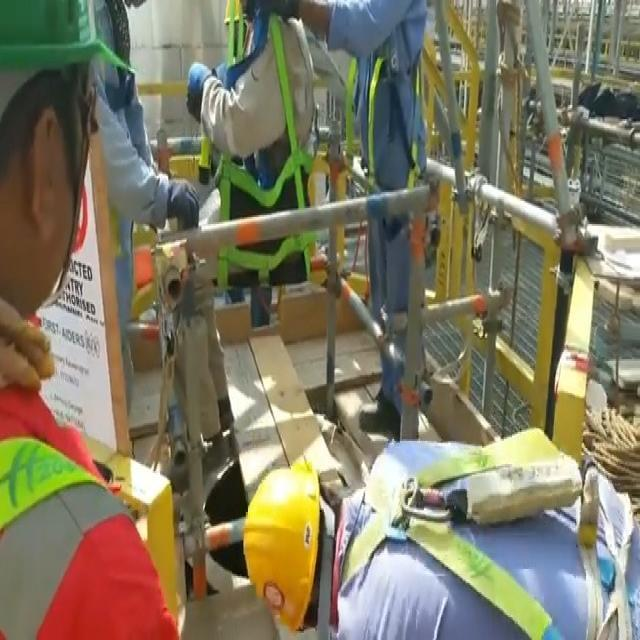Person: (1, 0, 153, 618)
